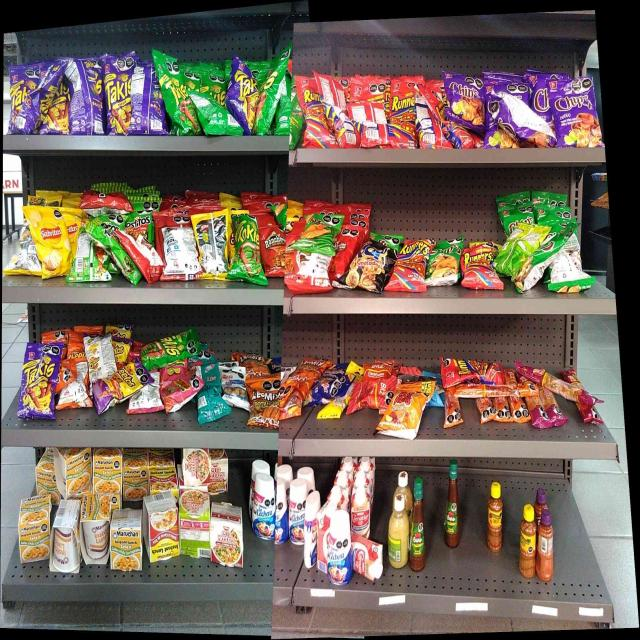bitzEnchilado90: (354, 382, 393, 406)
bitzEnchilado95: (476, 398, 531, 423), (449, 384, 539, 396), (445, 397, 463, 427)
bitzHabanero: (531, 398, 567, 428), (564, 367, 584, 397), (521, 366, 556, 382)
botaneraChilito: (520, 505, 535, 577), (488, 483, 502, 552)
cheetosFlaminHot: (116, 363, 143, 392)
chipsFuego: (554, 78, 601, 148), (446, 70, 485, 124)
chipsJalapeno: (430, 241, 459, 286)
churrumais: (166, 375, 196, 409)
delPrimoSalsa: (389, 497, 409, 567)
doritosNacho: (78, 189, 134, 215)
hotNutsOriginal: (394, 384, 419, 437)
leoCacahuates: (222, 366, 247, 409)
leoMix: (250, 379, 280, 428)
maruchanPollo: (83, 496, 109, 564), (19, 502, 48, 560), (113, 512, 141, 569)
maruchanRes: (145, 498, 178, 558)
nestleCarnation: (353, 533, 383, 582), (352, 491, 370, 531)
nestleLechera: (254, 476, 275, 540), (330, 518, 350, 584), (289, 484, 304, 544), (306, 501, 316, 567)
nissinCamaron: (181, 491, 209, 558)
nissinRes: (212, 503, 242, 568)
popKarameladas: (347, 246, 389, 294)
productoAtras: (68, 59, 102, 135), (195, 214, 228, 281), (132, 60, 160, 137), (161, 226, 192, 280), (327, 79, 351, 147), (54, 505, 78, 572), (358, 100, 388, 148), (194, 100, 233, 136), (552, 250, 587, 290), (296, 254, 332, 292), (499, 99, 535, 135), (75, 233, 99, 281), (88, 334, 113, 379), (197, 376, 221, 420), (12, 233, 37, 275), (507, 226, 545, 252), (418, 100, 438, 148), (58, 385, 91, 408), (16, 105, 40, 134), (130, 394, 162, 414)
rancheritos: (261, 224, 291, 277)
rufflesQueso: (304, 210, 336, 250)
runners: (391, 77, 416, 150), (462, 241, 497, 291), (300, 76, 322, 148), (400, 237, 428, 293)
sabritasOriginal: (39, 207, 68, 279)
salsaBufalo: (410, 480, 425, 572), (445, 460, 460, 548)
tajinDulce: (538, 509, 554, 582)
takisFuego: (21, 344, 56, 420), (104, 52, 131, 136), (235, 55, 257, 120), (9, 65, 39, 104), (42, 89, 67, 134)
takisOriginal: (258, 46, 286, 135), (232, 215, 260, 282), (166, 58, 189, 138), (144, 336, 197, 364)
